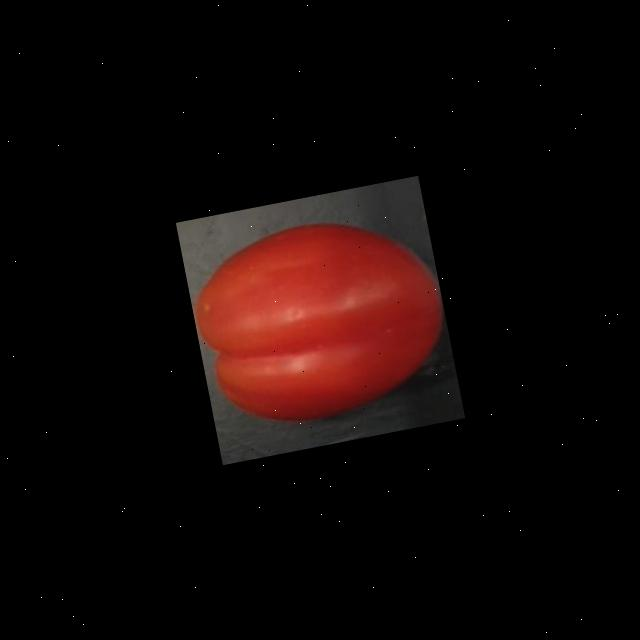tomato: (179, 196, 460, 446)
